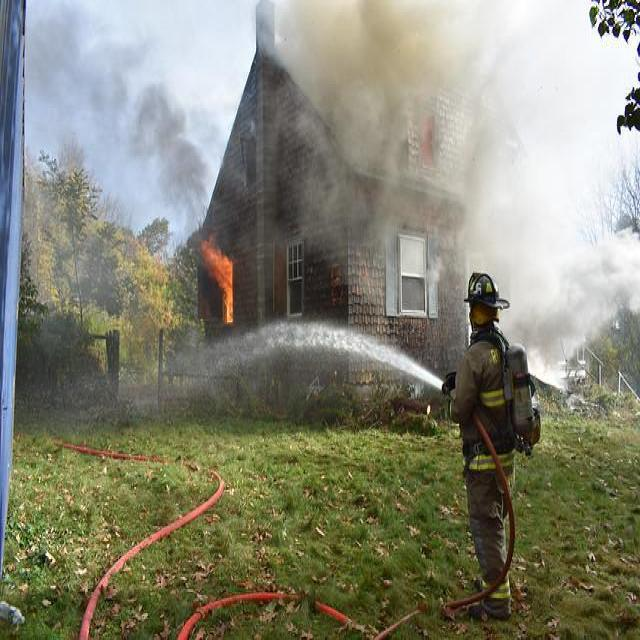fire: (192, 230, 248, 334)
smoke: (320, 14, 430, 130)
